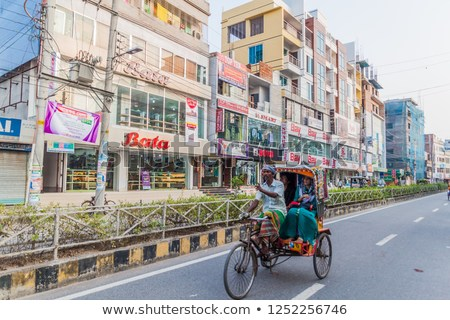Rickshaw: (219, 151, 333, 294)
